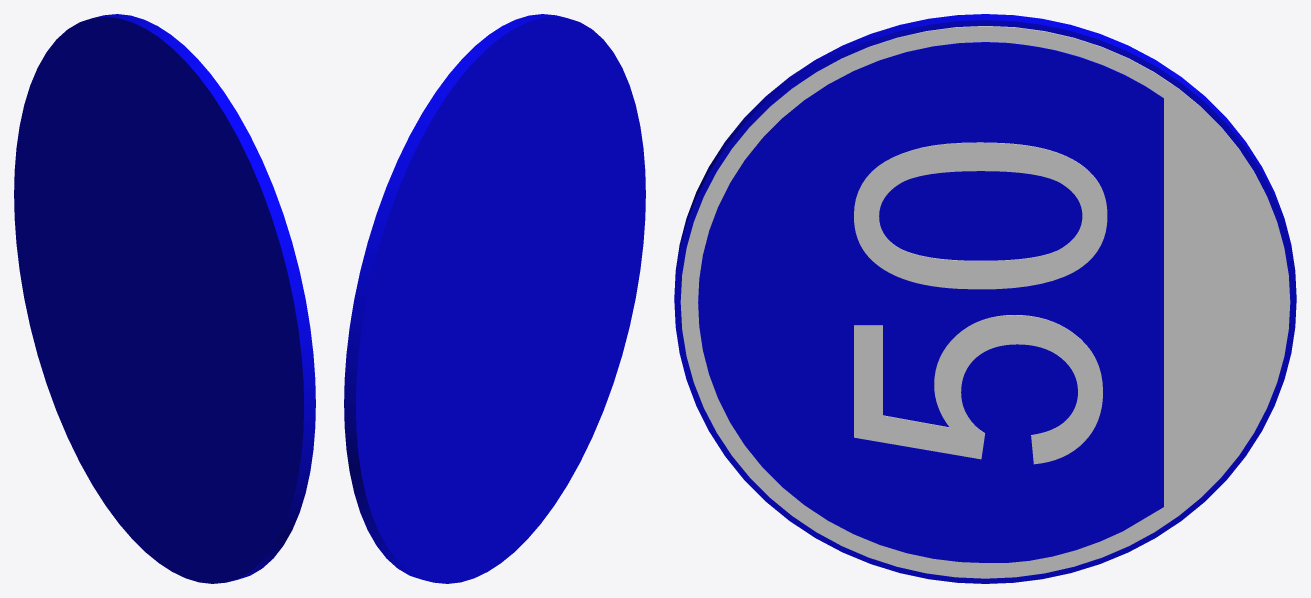
Rendered from 最低限速50.gltf.
3 views of the same model, side by side, from view 1: azimuth 30°, elevation 25°; view 2: azimuth 150°, elevation 25°; view 3: azimuth 270°, elevation 25° (orthographic). The views are drawn at different scales.
Parts seen in each view (by area): view 1: 最低时速限制50; view 2: 最低时速限制50; view 3: 最低时速限制50.
Boxes of the visible parts, x1,y1,x2,y2 form: 最低时速限制50: (14, 14, 315, 583); 最低时速限制50: (344, 14, 645, 583); 最低时速限制50: (674, 14, 1296, 583).
Size of the model in its own units: 0.0213 by 0.7691 by 0.7691.
